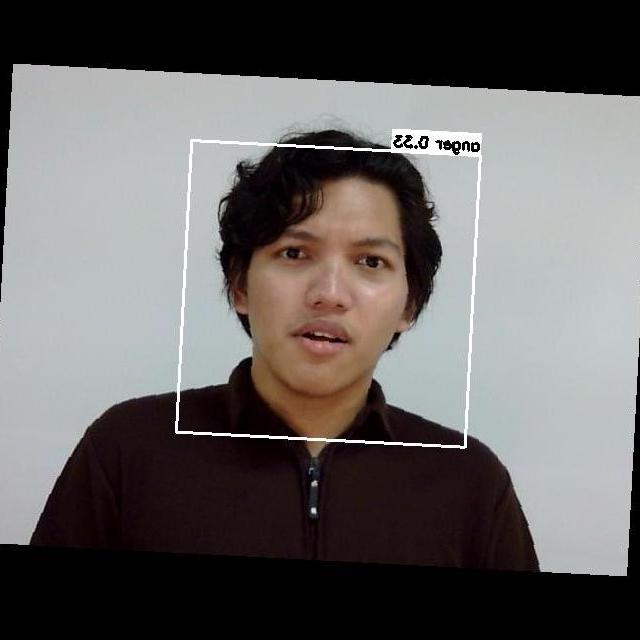Surprised: (245, 205, 420, 379)
